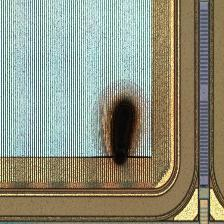PARTICLE: (89, 76, 155, 176)
